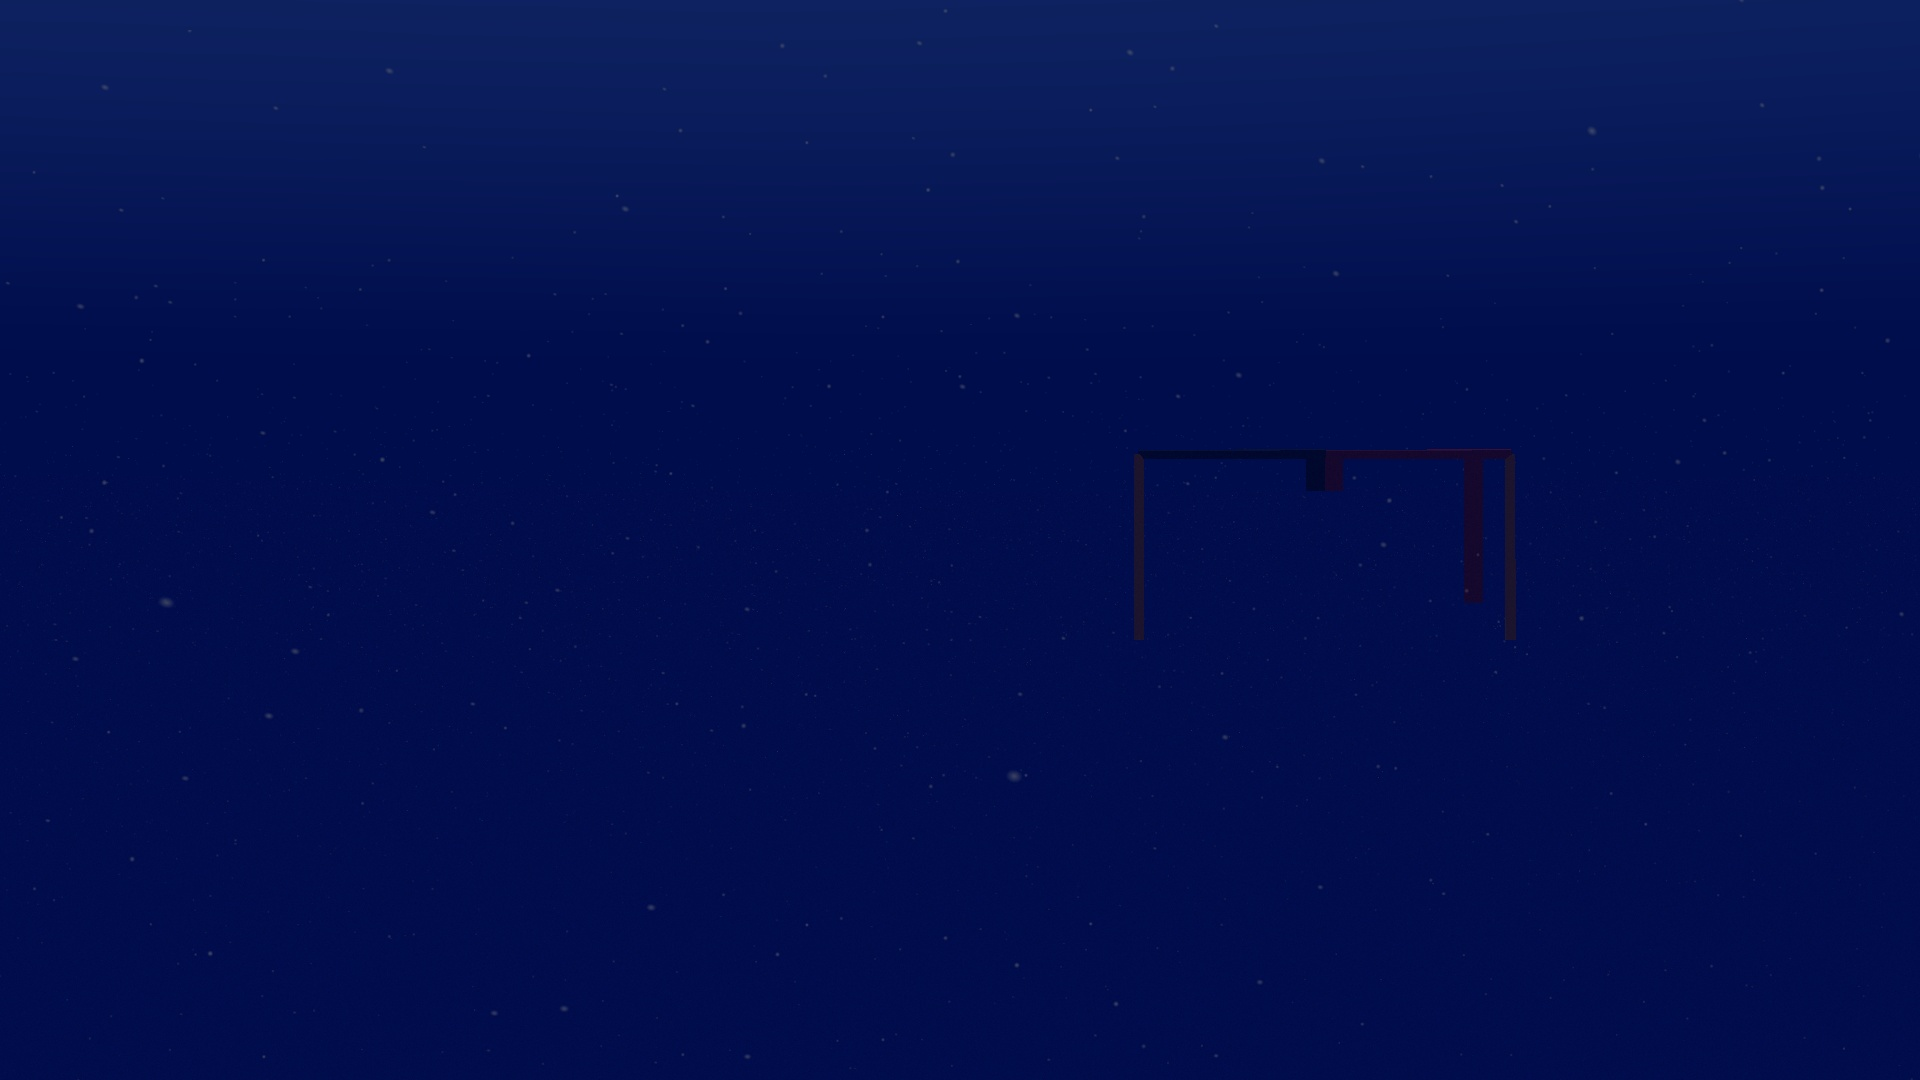Gate: (1126, 439, 1526, 650)
